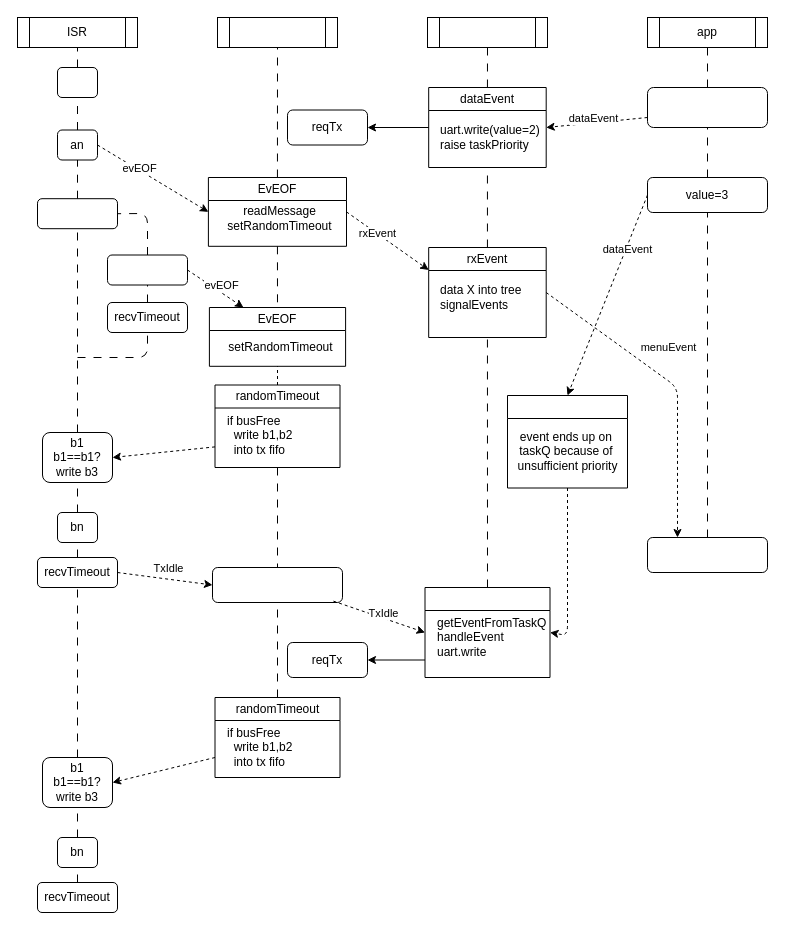
Image size: 785x930. Some labels were removed from this diagram. The box of each missing label's shape, as (x1, y1, x2, y2) in pixels:
a1: (56, 66, 98, 98)
ACK -> resetBusy: (106, 254, 188, 285)
handle TxIdle: (424, 586, 550, 678)
on(valueX): (646, 536, 768, 572)
recvTimeout ->send ACK: (36, 198, 118, 229)
schedule event: (506, 394, 628, 488)
TxIdle -> setRandomTimeout: (212, 566, 342, 602)
UART_DMN: (216, 16, 338, 48)
value=1 value=2: (646, 86, 768, 128)
vbusSpike: (426, 16, 548, 48)
